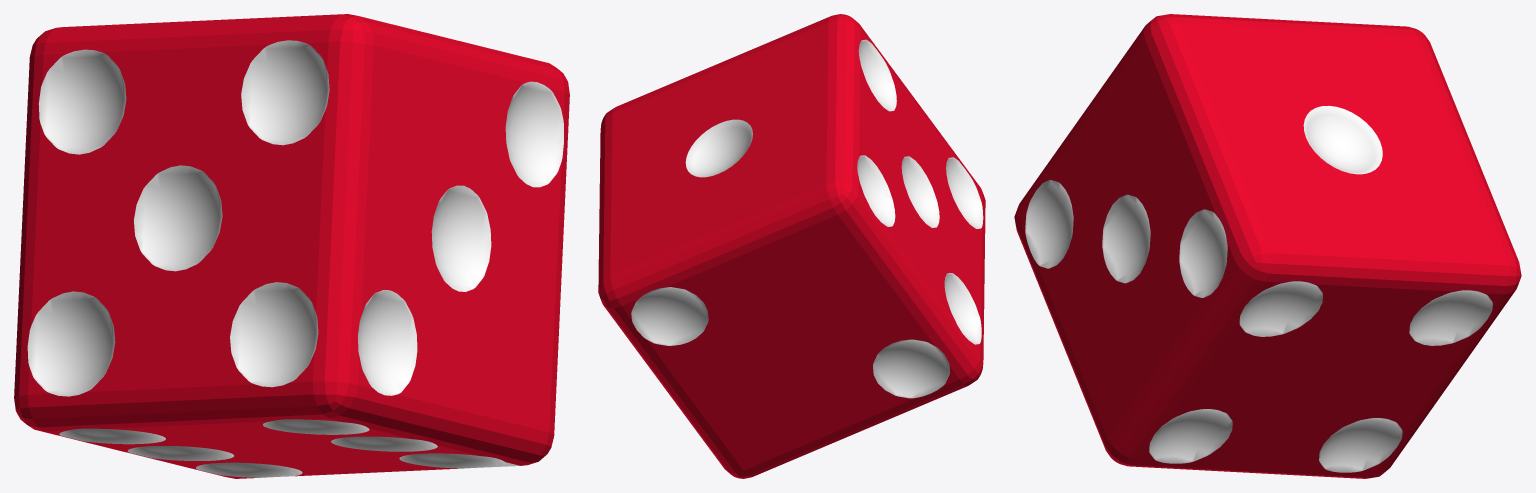
3 views of the same model, side by side, from view 1: azimuth 30°, elevation 25°; view 2: azimuth 150°, elevation 25°; view 3: azimuth 270°, elevation 25° (orthographic). The views are drawn at different scales.
Parts seen in each view (by area): view 1: Xí Ngầu.004; view 2: Xí Ngầu.004; view 3: Xí Ngầu.004.
Part boxes in pixels (x1,y1,x2,y2): Xí Ngầu.004: [14, 14, 569, 478]; Xí Ngầu.004: [598, 14, 985, 478]; Xí Ngầu.004: [1014, 14, 1521, 478].
Size of the model in its own units: 1.02 by 1 by 1.01.
